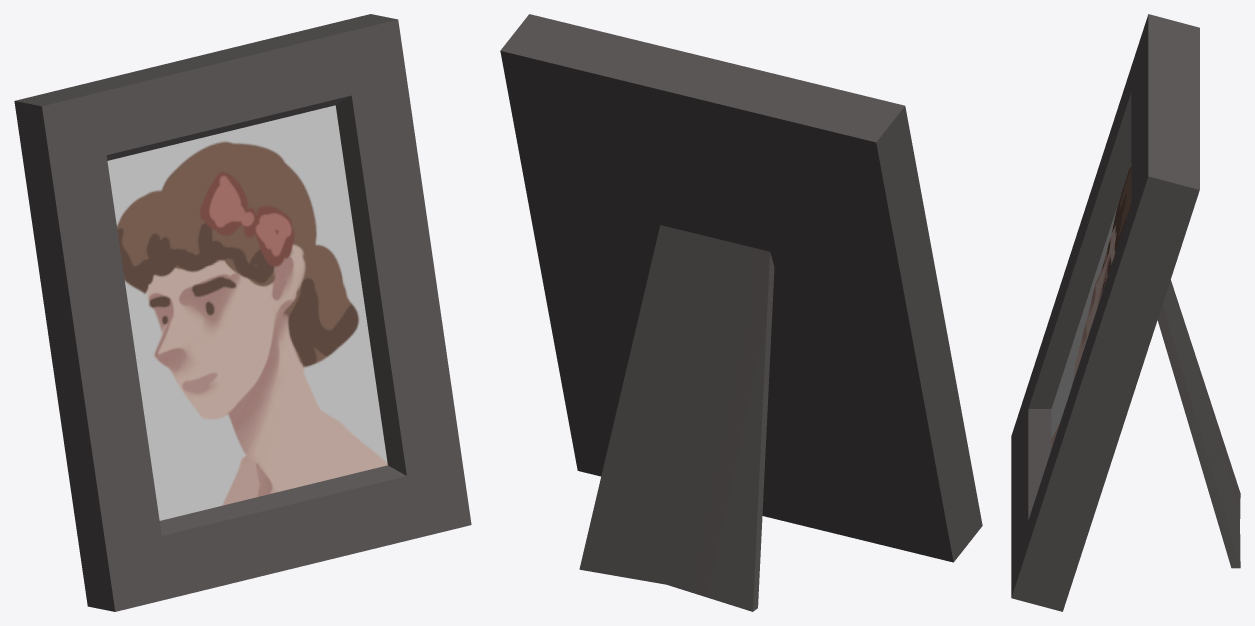
File: photo_frame.fbx
The picture shows the model from 3 angles, left to right: view 1: azimuth 30°, elevation 25°; view 2: azimuth 150°, elevation 25°; view 3: azimuth 270°, elevation 25°; orthographic projection. The views are drawn at different scales.
Visible parts, largest first — view 1: frame; view 2: frame; view 3: frame.
Part boxes in pixels (x1,y1,x2,y2): frame: (14, 14, 471, 611); frame: (500, 14, 982, 611); frame: (1011, 14, 1240, 611).
Size of the model in its own units: 17.86 by 22.36 by 10.65.
